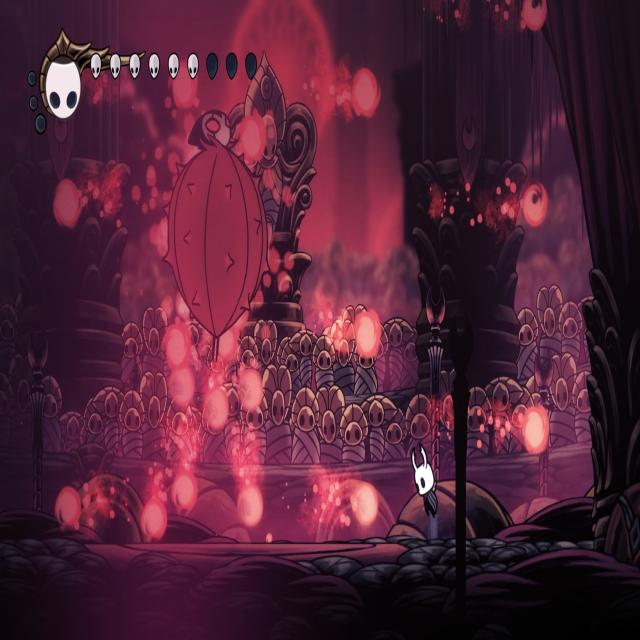Player: (410, 440, 442, 520)
Pufferfish: (157, 105, 274, 374)
Tiny Fireballs: (238, 115, 268, 167), (54, 180, 82, 230), (140, 494, 168, 542), (522, 406, 549, 455), (170, 66, 198, 113), (352, 70, 378, 120), (55, 486, 82, 532), (355, 311, 380, 360), (521, 182, 547, 227), (239, 368, 264, 414), (165, 325, 191, 369), (170, 365, 196, 409), (204, 390, 230, 433), (238, 485, 264, 527), (352, 482, 376, 526), (173, 470, 198, 512), (522, 0, 550, 33)
